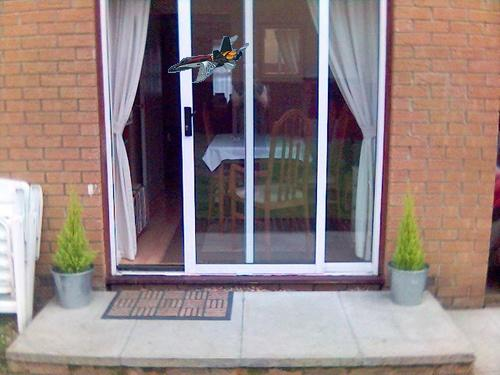tampered: (169, 36, 249, 83)
